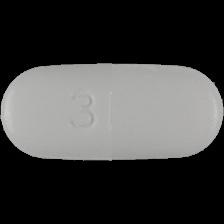21695-339: (0, 0, 224, 224)
